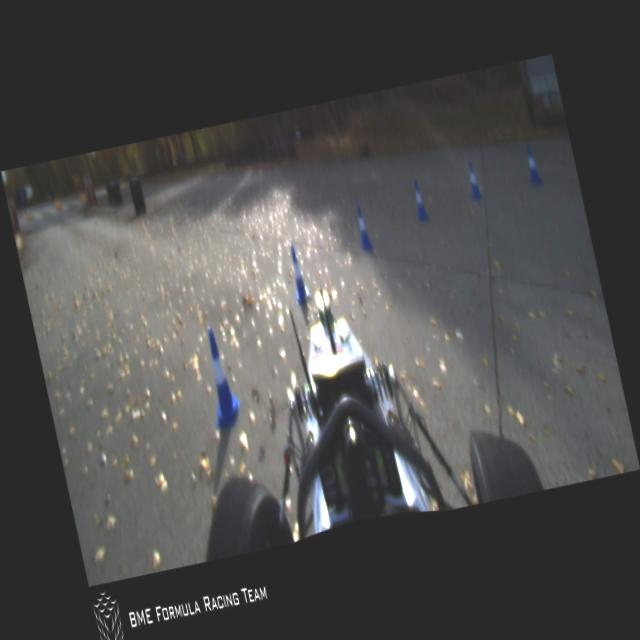blue_cone: (196, 328, 244, 430), (285, 244, 309, 301), (350, 202, 372, 248), (462, 156, 483, 202), (409, 178, 429, 222), (522, 144, 540, 183)
